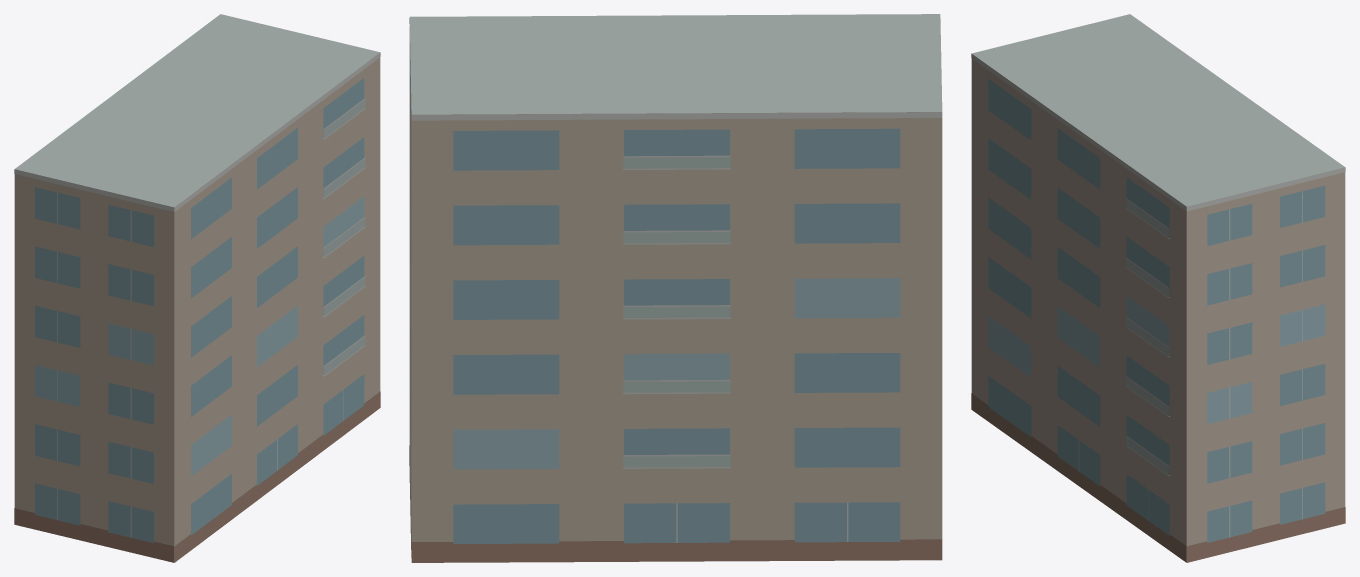
The model's file is survey-upis-32965366.glb.
The picture shows the model from 3 angles, left to right: view 1: azimuth 30°, elevation 25°; view 2: azimuth 150°, elevation 25°; view 3: azimuth 270°, elevation 25°; orthographic projection. The views are drawn at different scales.
Parts seen in each view (by area): view 1: survey-upis-32965366.tmp; view 2: survey-upis-32965366.tmp; view 3: survey-upis-32965366.tmp.
Part boxes in pixels (bbox=[...]): survey-upis-32965366.tmp: bbox=[14, 14, 380, 562]; survey-upis-32965366.tmp: bbox=[409, 14, 942, 562]; survey-upis-32965366.tmp: bbox=[971, 14, 1345, 562].
Size of the model in its own units: 21.25 by 18.3 by 17.42.
